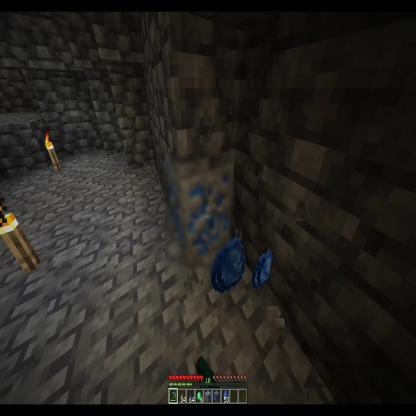lapis ore: (165, 153, 234, 273)
